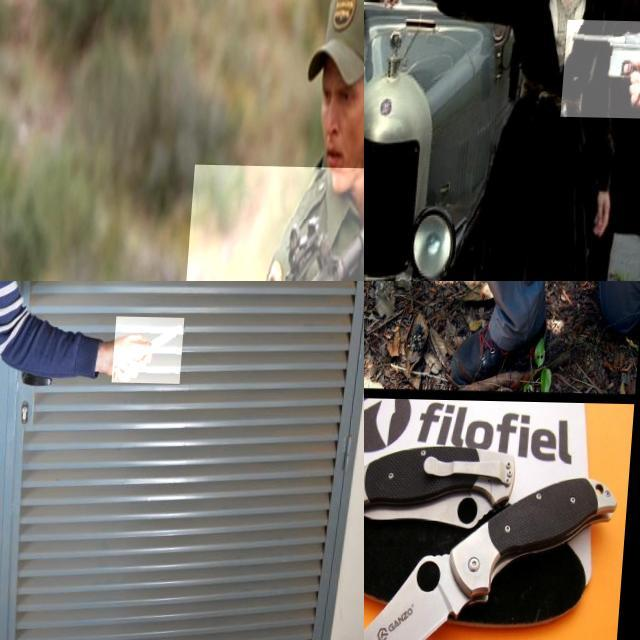-: (364, 540, 487, 640), (364, 541, 440, 640), (117, 316, 189, 382), (455, 281, 526, 321), (364, 281, 375, 312)
gun-knife-thesis - v11 Yolov5 augmented: (180, 162, 364, 281), (566, 17, 640, 116)
